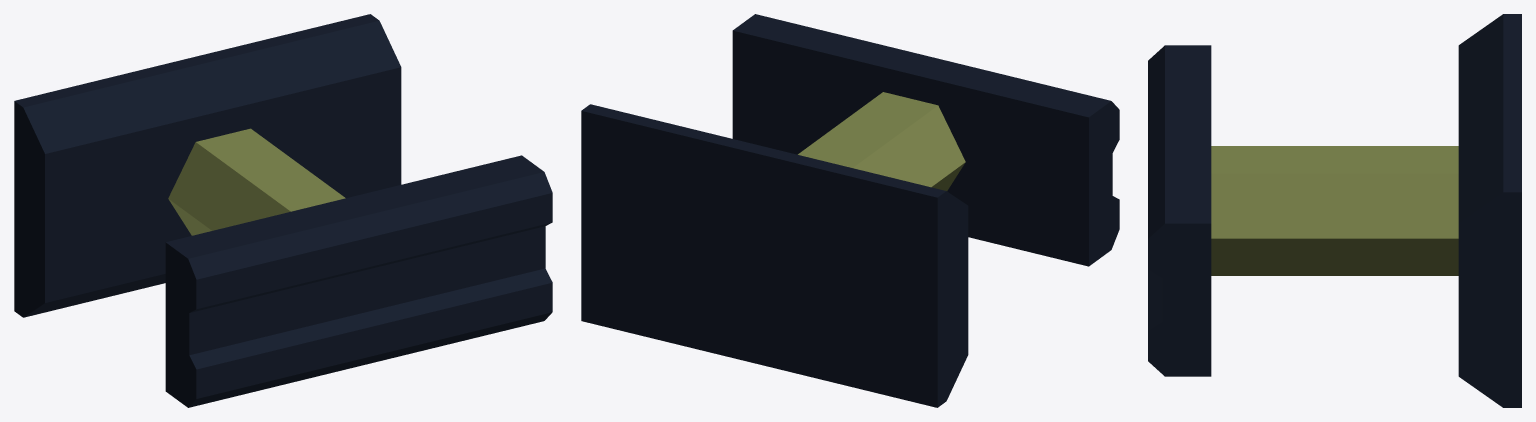
The model's file is Railing.obj.
3 renders of one model, left to right at view 1: azimuth 30°, elevation 25°; view 2: azimuth 150°, elevation 25°; view 3: azimuth 270°, elevation 25°, orthographic. The views are drawn at different scales.
Visible parts, largest first — view 1: Box010, Box011, Cylinder001; view 2: Box011, Box010, Cylinder001; view 3: Cylinder001, Box011, Box010.
Part boxes in pixels (x1,y1,x2,y2): Box010: (165,155,552,407); Box011: (14,14,401,317); Cylinder001: (168,128,345,235); Box011: (581,104,968,407); Box010: (732,14,1119,266); Cylinder001: (798,92,965,190); Cylinder001: (1211,146,1458,275); Box011: (1458,14,1521,407); Box010: (1148,45,1211,376).
Bounding box in the file's own units: 1 × 0.564 × 0.8859.
